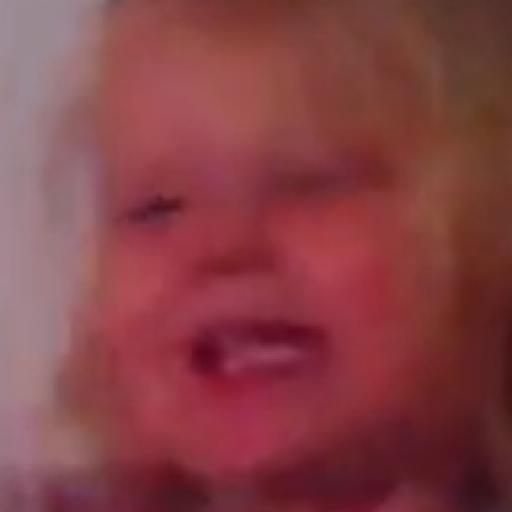Autism: (64, 28, 512, 512)
